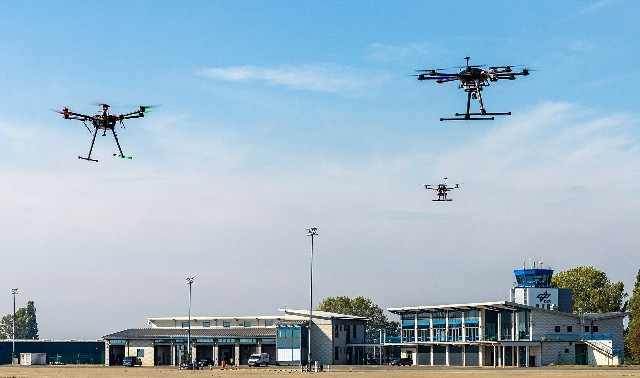maybay_khongnguoilai: (411, 50, 533, 119), (47, 83, 145, 160), (421, 174, 464, 205)
